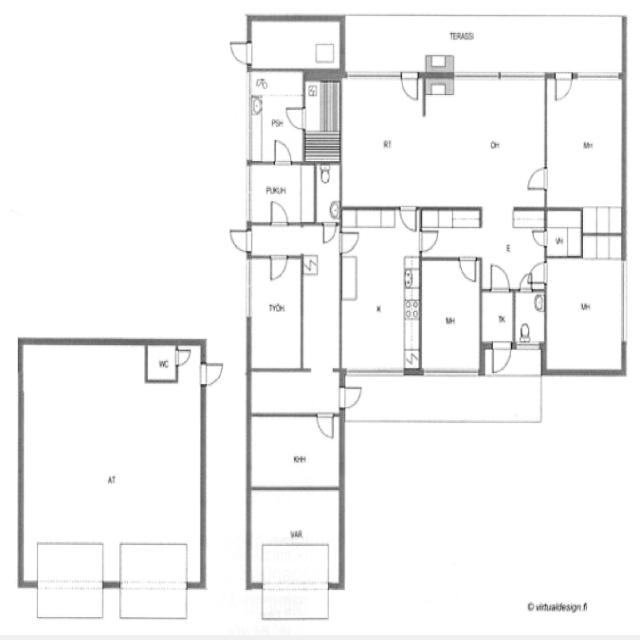door: (397, 66, 423, 105), (551, 69, 575, 105), (489, 340, 513, 376), (487, 261, 511, 295), (198, 359, 226, 388), (227, 37, 254, 67), (336, 384, 364, 412), (524, 163, 550, 193), (314, 410, 338, 442), (226, 226, 253, 254), (271, 136, 294, 167), (398, 203, 421, 234), (457, 254, 479, 286), (417, 227, 441, 256), (284, 104, 308, 132), (268, 198, 290, 228), (268, 254, 288, 284), (339, 230, 361, 256), (529, 260, 549, 288), (319, 221, 339, 247), (530, 227, 548, 249), (173, 346, 191, 368), (519, 271, 534, 294)
window: (453, 66, 546, 84), (616, 256, 631, 347), (342, 66, 405, 84), (243, 74, 255, 161), (346, 365, 408, 381), (422, 365, 481, 380), (573, 68, 622, 84), (243, 258, 255, 322), (514, 341, 544, 354)
zone: (19, 341, 207, 579), (422, 77, 543, 210), (339, 207, 421, 374), (341, 73, 432, 208), (248, 487, 340, 609), (544, 76, 626, 212), (545, 254, 625, 374), (248, 412, 342, 489), (26, 540, 111, 625), (420, 257, 481, 373), (115, 542, 195, 629), (249, 254, 303, 372), (248, 16, 342, 71), (249, 70, 303, 164), (248, 158, 316, 228), (302, 74, 342, 159), (544, 208, 585, 257), (514, 288, 546, 350), (313, 159, 342, 224)
